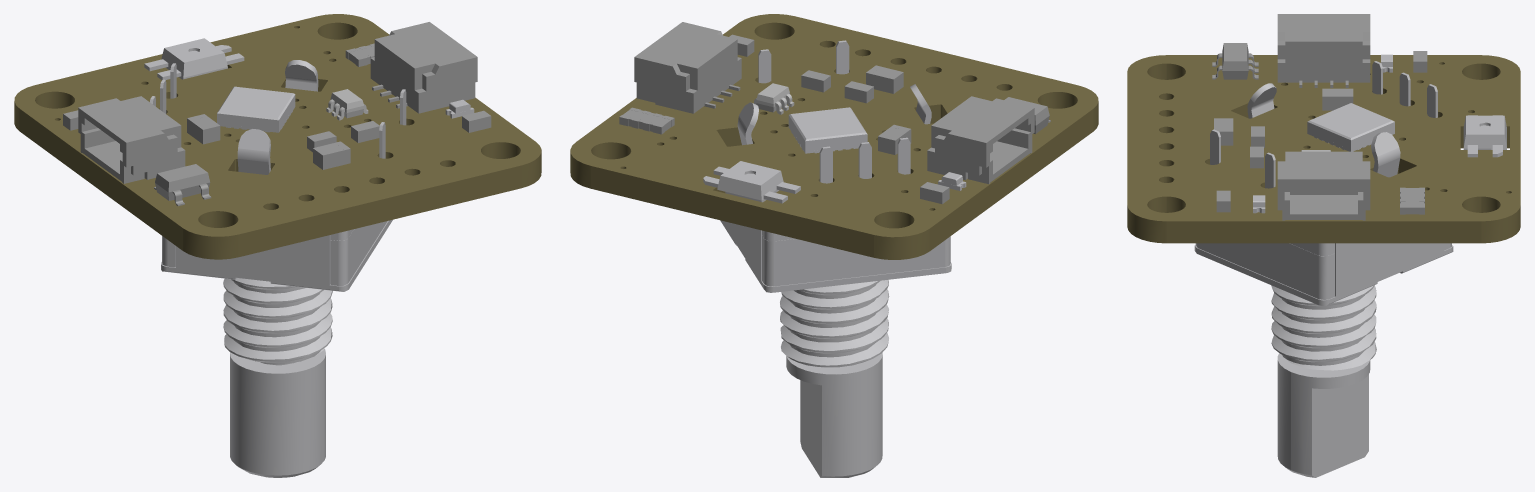
File: ada-5880.glb
3 renders of one model, left to right at view 1: azimuth 30°, elevation 25°; view 2: azimuth 150°, elevation 25°; view 3: azimuth 270°, elevation 25°, orthographic. The views are drawn at different scales.
Visible parts, largest first — view 1: 0.16666666666666666_0.16666666666666666_0.08333333333333333_, 0.5833333333333334_0.5833333333333334_0.5833333333333334_0.8, 0.3333333333333333_0.3333333333333333_0.3333333333333333_0, 0.5_0.5_0.5_0.85; view 2: 0.16666666666666666_0.16666666666666666_0.08333333333333333_, 0.5833333333333334_0.5833333333333334_0.5833333333333334_0.8, 0.3333333333333333_0.3333333333333333_0.3333333333333333_0, 0.5_0.5_0.5_0.85; view 3: 0.16666666666666666_0.16666666666666666_0.08333333333333333_, 0.5833333333333334_0.5833333333333334_0.5833333333333334_0.8, 0.3333333333333333_0.3333333333333333_0.3333333333333333_0.
Boxes of the visible parts, <box> form: 0.16666666666666666_0.16666666666666666_0.08333333333333333_: <box>14,14,541,259</box>; 0.5833333333333334_0.5833333333333334_0.5833333333333334_0.8: <box>144,38,474,477</box>; 0.3333333333333333_0.3333333333333333_0.3333333333333333_0: <box>63,22,491,206</box>; 0.5_0.5_0.5_0.85: <box>326,89,368,120</box>; 0.16666666666666666_0.16666666666666666_0.08333333333333333_: <box>570,14,1098,259</box>; 0.5833333333333334_0.5833333333333334_0.5833333333333334_0.8: <box>703,40,966,477</box>; 0.3333333333333333_0.3333333333333333_0.3333333333333333_0: <box>619,22,1050,204</box>; 0.5_0.5_0.5_0.85: <box>753,83,794,114</box>; 0.16666666666666666_0.16666666666666666_0.08333333333333333_: <box>1127,55,1520,243</box>; 0.5833333333333334_0.5833333333333334_0.5833333333333334_0.8: <box>1194,54,1506,477</box>; 0.3333333333333333_0.3333333333333333_0.3333333333333333_0: <box>1212,14,1427,220</box>.
Bounding box in the file's own units: 2.54 × 2.59 × 2.54.
